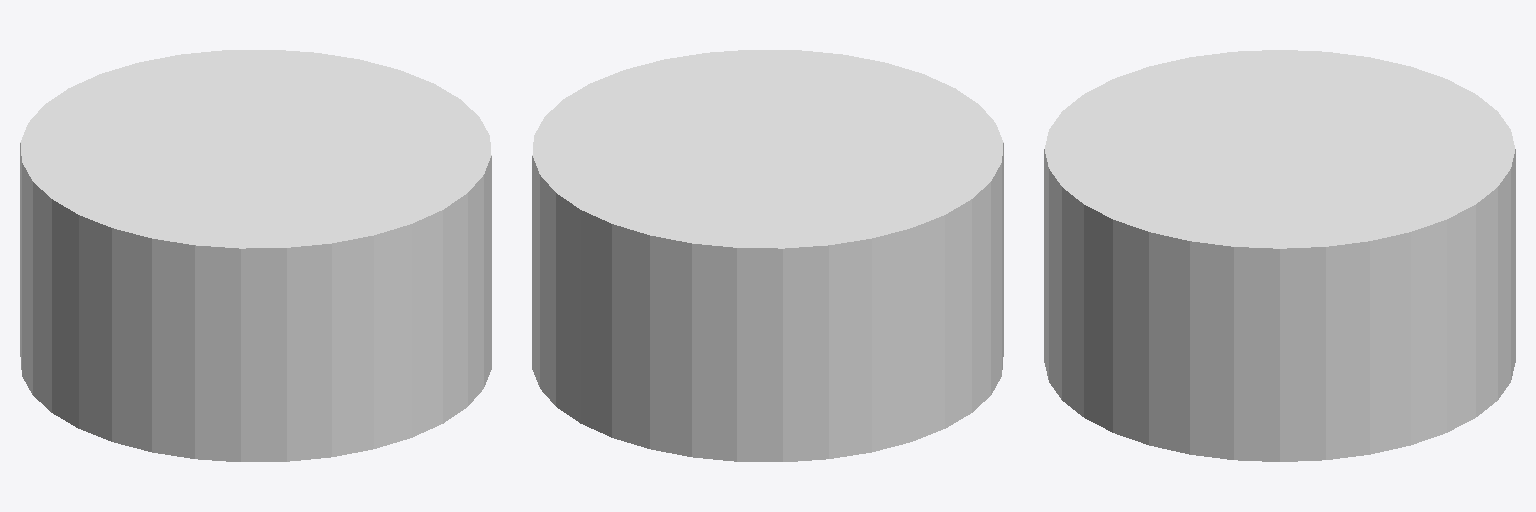
robot.urdf — cylinder:
<?xml version="1.0"?> 

<!-- Copyright 2023 [author] -->

<!-- Licensed under the Apache License, Version 2.0 (the "License"); -->
<!-- you may not use this file except in compliance with the License. -->
<!-- You may obtain a copy of the License at -->

<!--     http://www.apache.org/licenses/LICENSE-2.0 -->

<!-- Unless required by applicable law or agreed to in writing, software -->
<!-- distributed under the License is distributed on an "AS IS" BASIS, -->
<!-- WITHOUT WARRANTIES OR CONDITIONS OF ANY KIND, either express or implied. -->
<!-- See the License for the specific language governing permissions and -->
<!-- limitations under the License. -->

<!-- Authors: [author], [author] -->

<robot name="cylinder">
    <link name="cylinder">
        <visual>
            <origin xyz="6.25 6.25 0" rpy="0 0 0" />
            <geometry>
                <mesh filename='v2_cyl_obstacle.stl' />
            </geometry>
            <material name="grey">
                <color rgba="0.95 0.95 0.95 1"/>
            </material>
        </visual>
        <collision>
            <origin xyz="6.25 6.25 0" rpy="0 0 0" />
            <geometry>
                <mesh filename='v2_cyl_obstacle.stl' />
            </geometry>
        </collision>
        <inertial>
            <mass value="10"/>
            <inertia ixx="0.4" ixy="0.0" ixz="0.0" iyy="0.4" iyz="0.0" izz="0.2" />
        </inertial>
    </link>
</robot>

--- What the picture shows (computed from the rendered views, not written in the file) ---
3 views of the same robot in one strip: view 1: azimuth 30°, elevation 25°; view 2: azimuth 150°, elevation 25°; view 3: azimuth 270°, elevation 25° (orthographic).
Model cylinder with 1 links and 0 joints (none), rooted at cylinder, posed all joints at 0.
Links seen in each view (by area): view 1: cylinder; view 2: cylinder; view 3: cylinder.
Boxes of the visible links, <box> form: cylinder: <box>20,50,491,461</box>; cylinder: <box>532,50,1003,461</box>; cylinder: <box>1044,50,1515,461</box>.
Bounding box of the posed robot: 1 × 1 × 0.5 m (x, y, z).
1 mesh visuals loaded from 1 distinct referenced files (1 binary STL).
